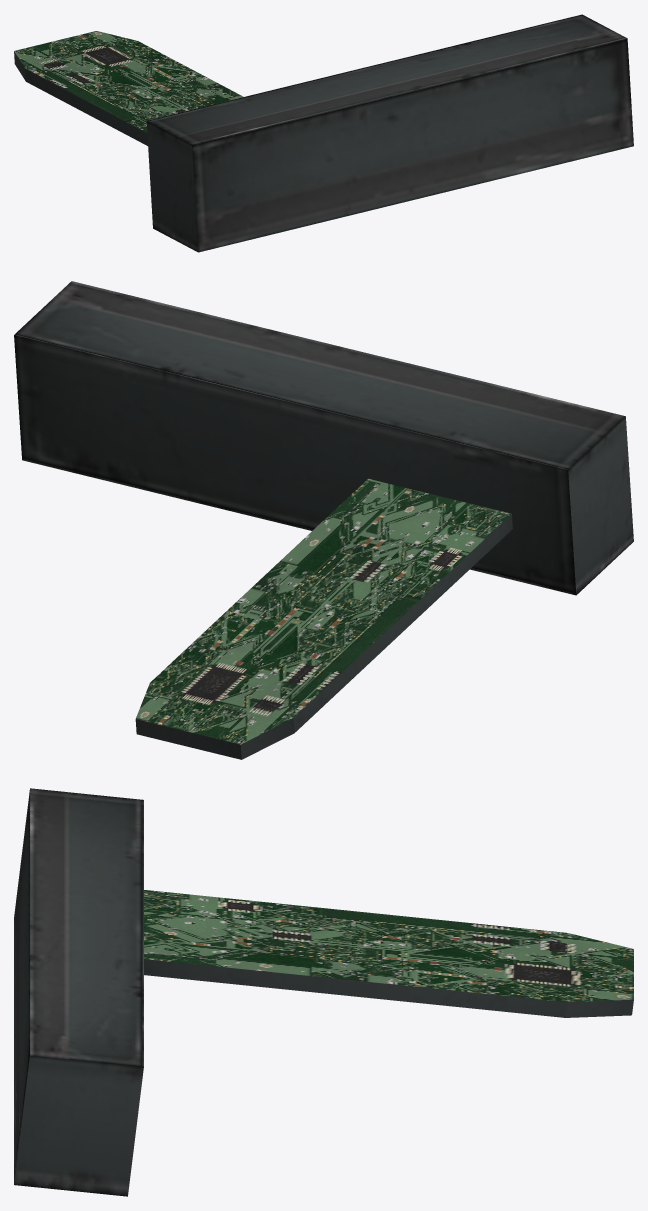
The model's file is Controller_05.fbx.
The picture shows the model from 3 angles, top to bottom: view 1: azimuth 30°, elevation 25°; view 2: azimuth 150°, elevation 25°; view 3: azimuth 270°, elevation 25°; orthographic projection. The views are drawn at different scales.
Visible parts, largest first — view 1: Controller_05; view 2: Controller_05; view 3: Controller_05.
Boxes of the visible parts, x1,y1,x2,y2 form: Controller_05: (14,14,633,252); Controller_05: (14,281,633,759); Controller_05: (14,788,633,1196).
Size of the model in its own units: 17.09 by 4.21 by 16.77.
